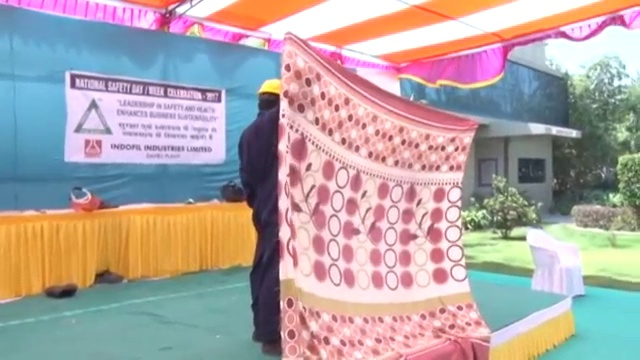helmet: (257, 77, 282, 97)
helmet_on: (257, 76, 283, 115)
person: (236, 77, 290, 356)
